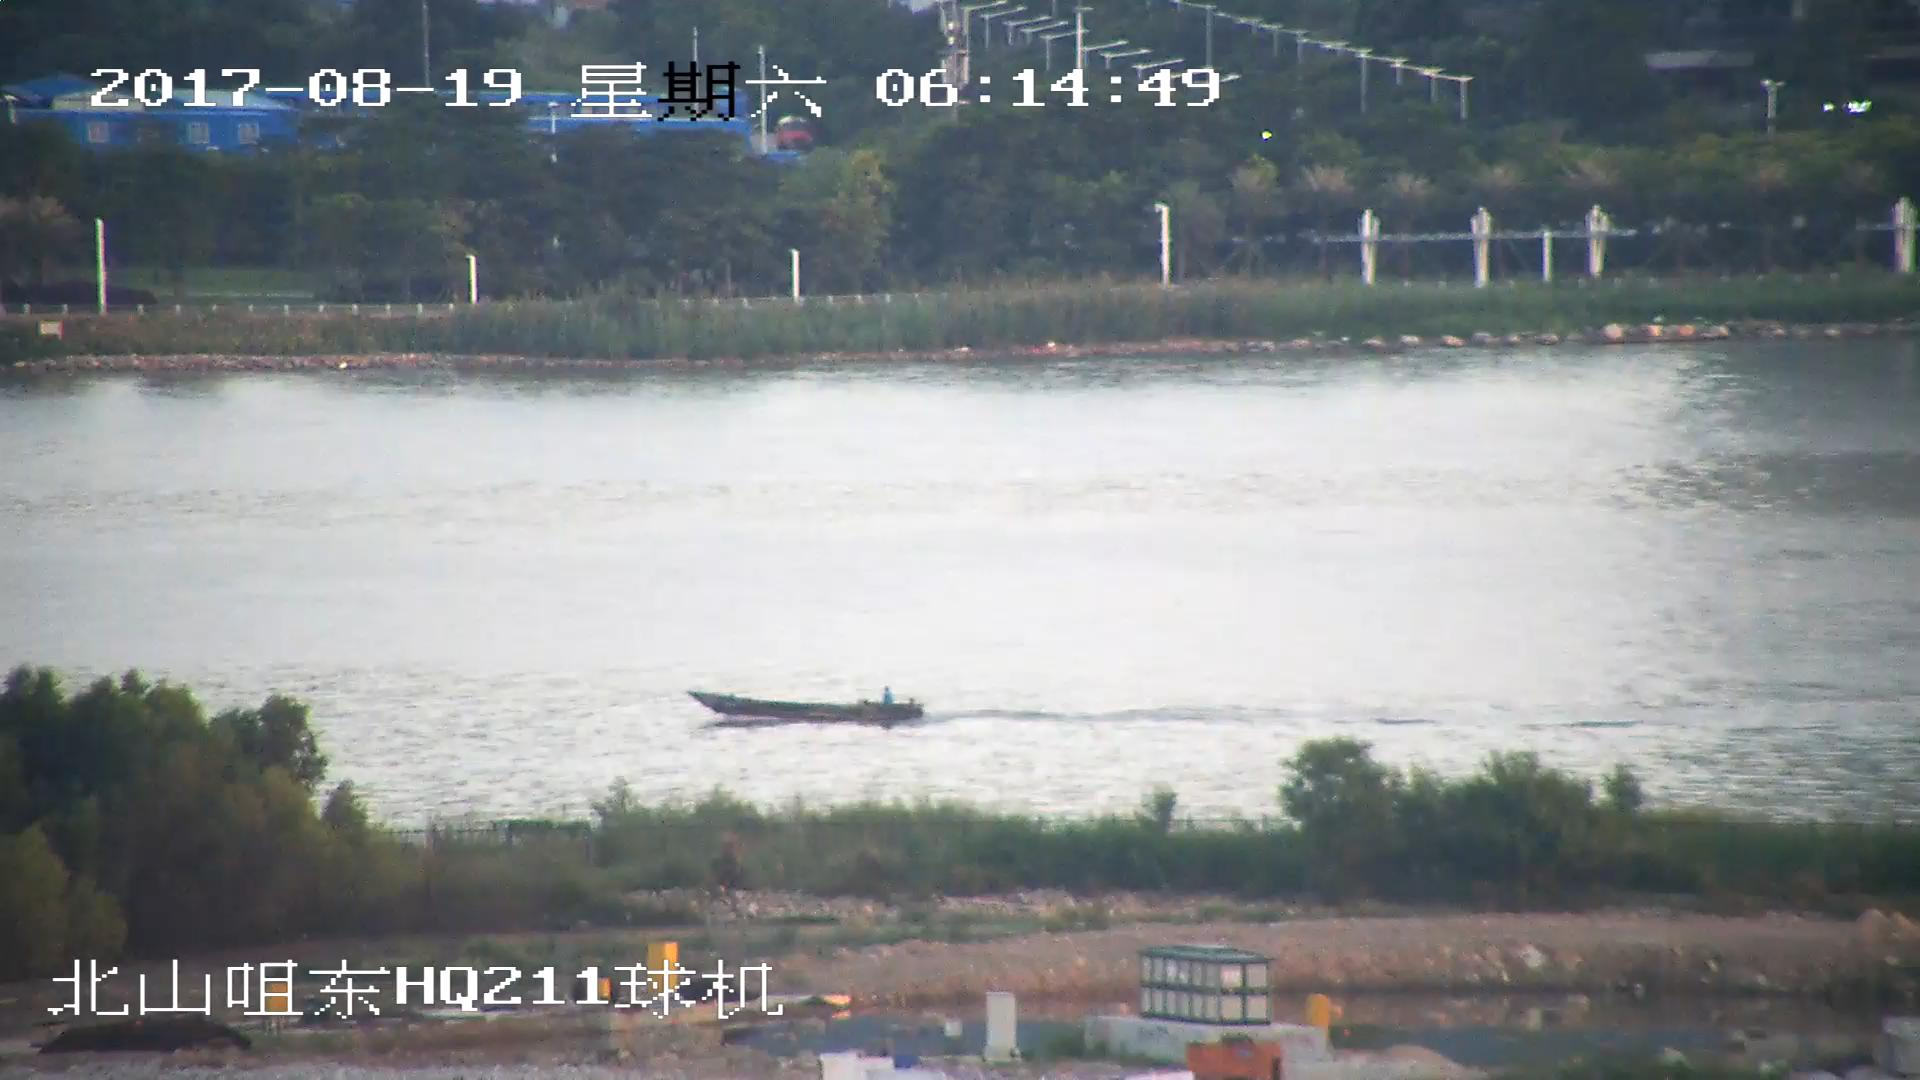fishing boat: (690, 683, 923, 726)
